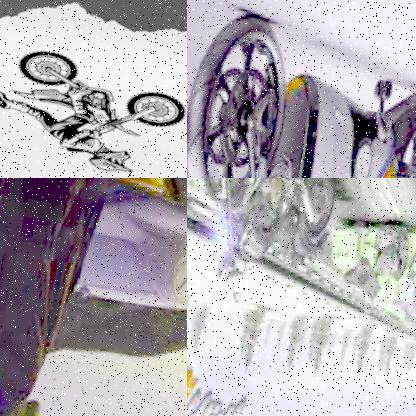bike: (187, 0, 416, 178), (187, 178, 348, 322), (0, 39, 187, 158), (305, 214, 416, 336)
car: (0, 178, 187, 367)
